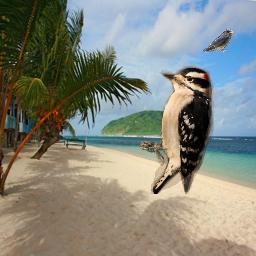Swallow: (203, 29, 233, 54)
Woodpecker: (138, 64, 214, 194)
